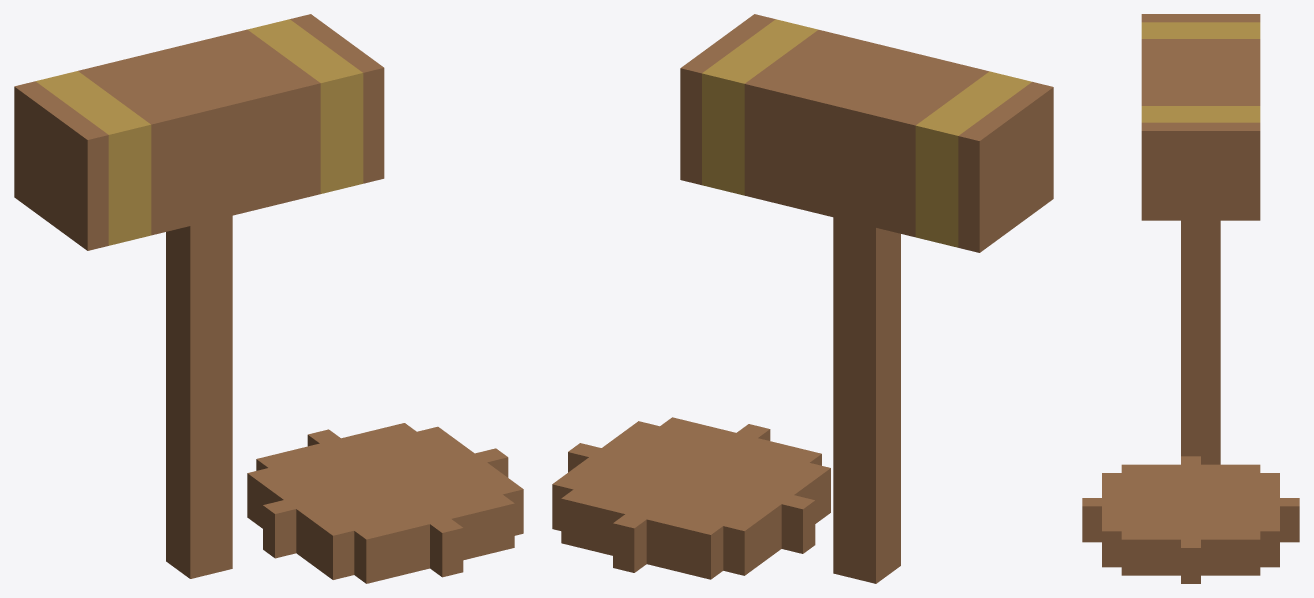
The model's file is legal-03.glb.
The picture shows the model from 3 angles, left to right: view 1: azimuth 30°, elevation 25°; view 2: azimuth 150°, elevation 25°; view 3: azimuth 270°, elevation 25°; orthographic projection. The views are drawn at different scales.
Parts seen in each view (by area): view 1: Gavel; view 2: Gavel; view 3: Gavel.
Boxes of the visible parts, <box> form: Gavel: <box>14,14,523,583</box>; Gavel: <box>552,14,1053,583</box>; Gavel: <box>1082,14,1299,583</box>.
Bounding box in the file's own units: 1.68 × 1.76 × 0.88.
